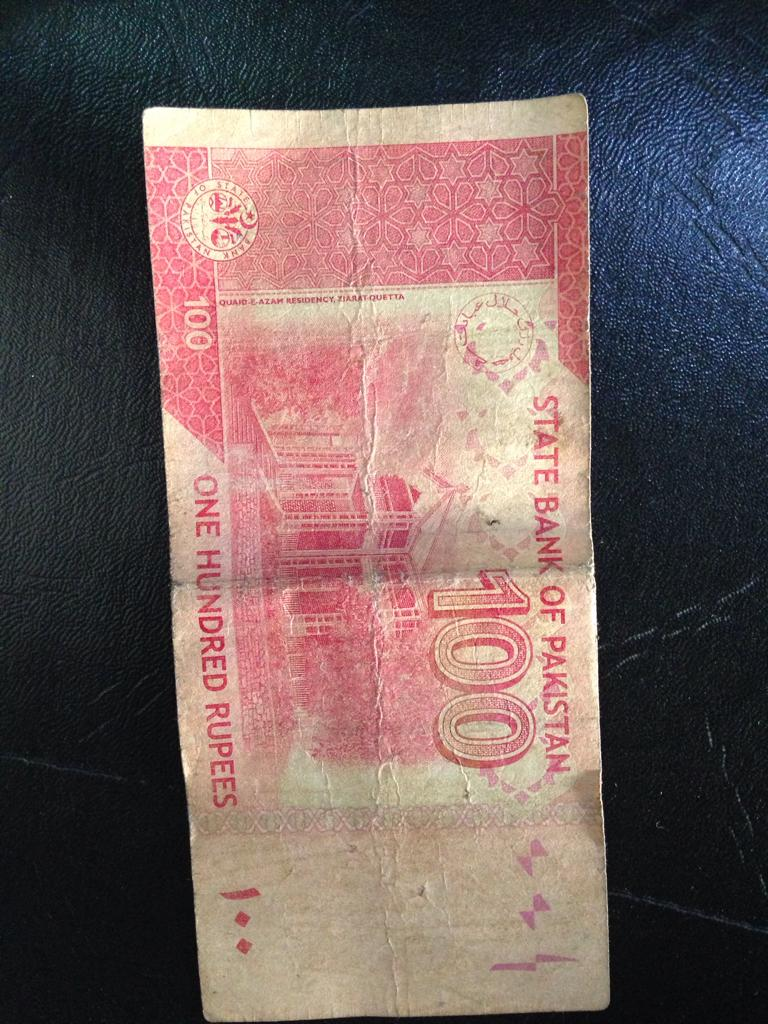100 rupee: (109, 87, 639, 1011)
